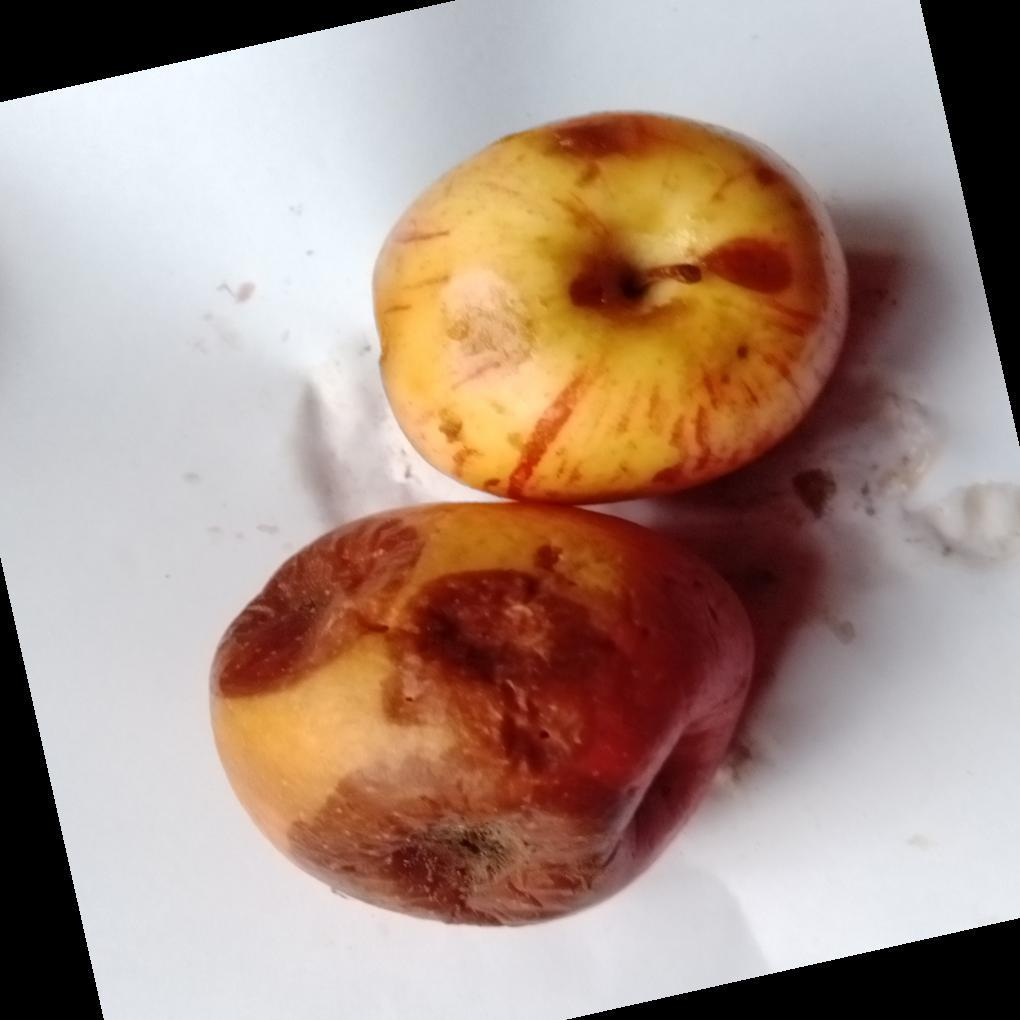FreshOrange: (207, 114, 846, 931)
